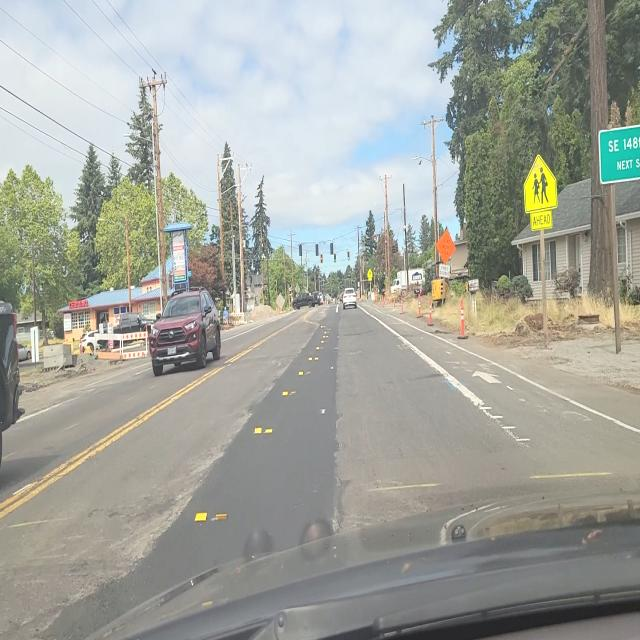car: (149, 285, 222, 375), (110, 314, 152, 352), (80, 328, 108, 354), (292, 293, 316, 310), (138, 314, 157, 333), (342, 288, 357, 310), (17, 343, 31, 363), (311, 291, 323, 306)
crosswalk-sign: (523, 155, 558, 233), (372, 269, 377, 287), (367, 269, 373, 280)
delineator: (457, 298, 469, 339), (427, 298, 434, 326), (417, 294, 422, 318), (387, 292, 392, 308), (400, 295, 404, 314), (379, 293, 383, 305), (374, 290, 378, 302), (371, 291, 375, 302), (393, 294, 396, 308), (382, 293, 385, 306)
